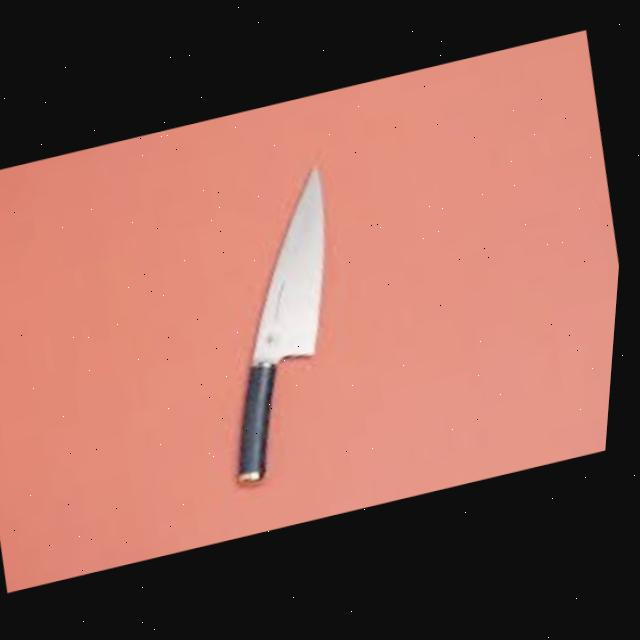Knife: (183, 162, 387, 487)
